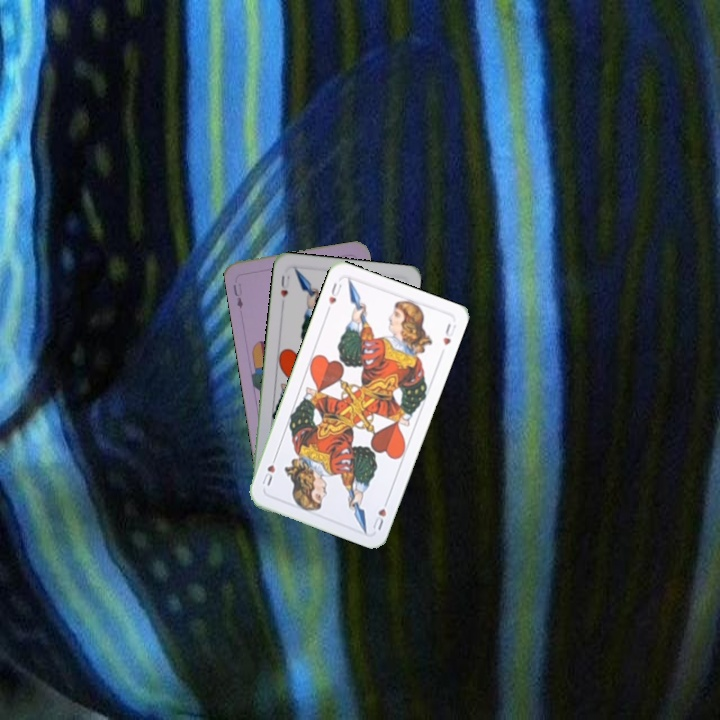EU: (229, 280, 245, 311)
HU: (369, 494, 391, 533), (323, 279, 344, 315), (276, 271, 292, 300)
